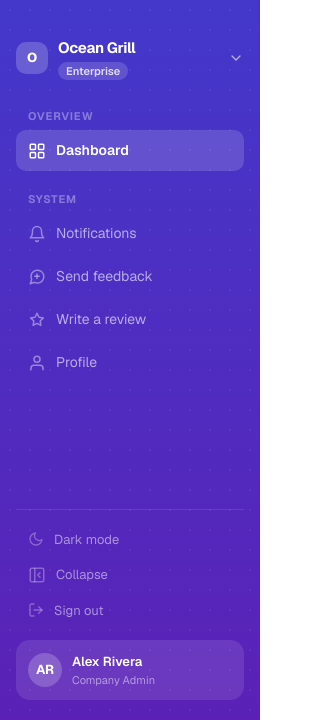
it: the switcher › offers the other organisation, and marks the current one
Click the button named "switch organisation". click: (130,58)
box: [8, 28, 252, 88]
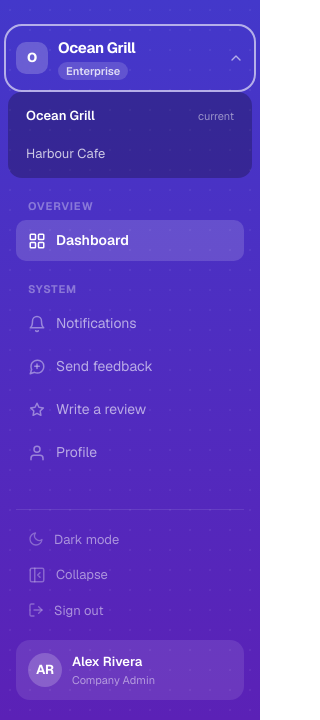
Check: the text "current" is shown, box [198, 108, 234, 124]
